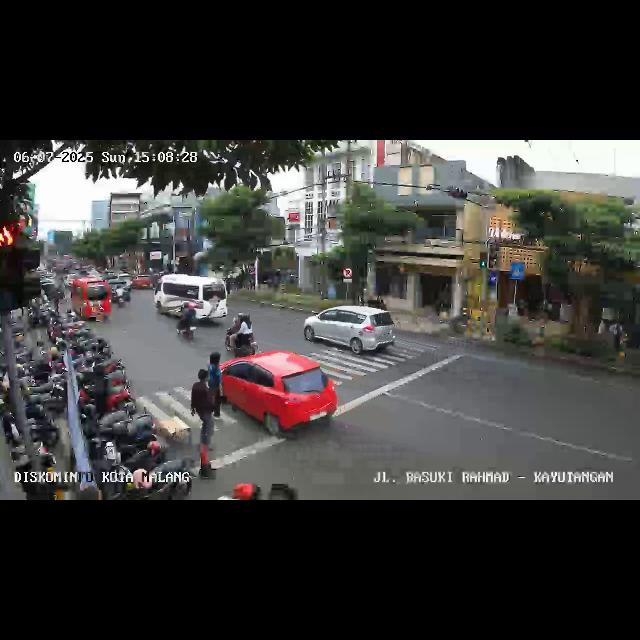car: (218, 352, 338, 442), (302, 304, 398, 362), (156, 274, 228, 322), (67, 276, 111, 324), (132, 273, 154, 291)
motorcycle: (226, 312, 258, 356), (176, 303, 200, 343), (112, 286, 132, 308)
person: (190, 369, 218, 455), (203, 351, 223, 425)
